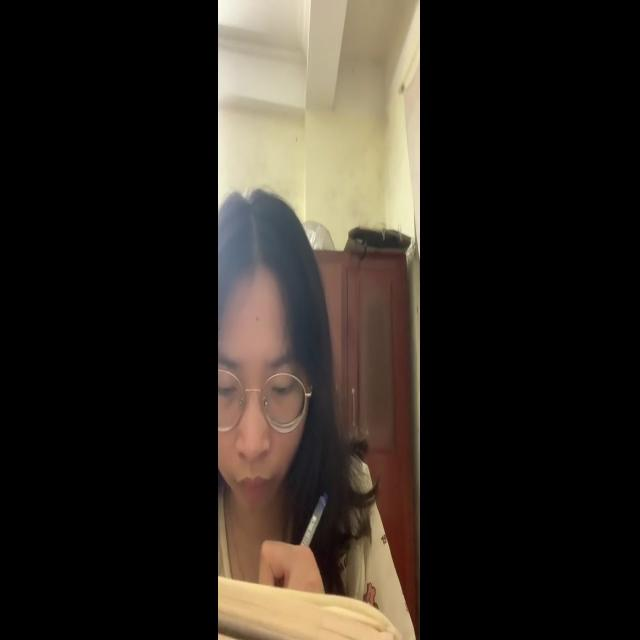book: (218, 535, 404, 640)
student: (220, 190, 337, 531)
